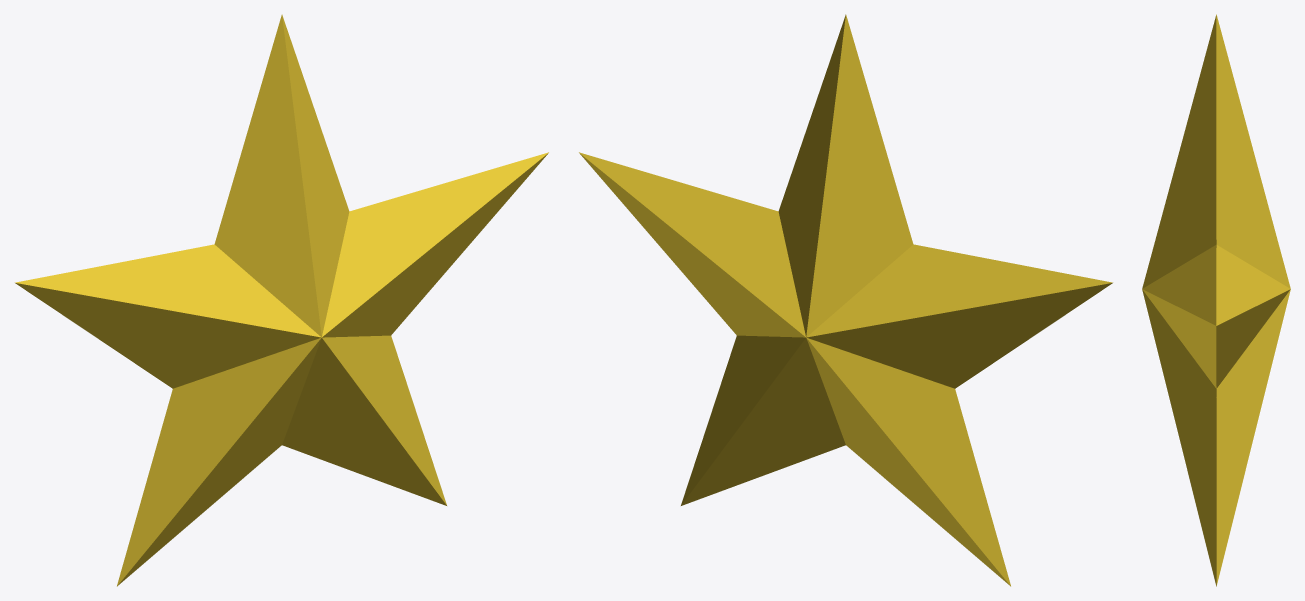
Rendered from Star.fbx.
3 renders of one model, left to right at view 1: azimuth 30°, elevation 25°; view 2: azimuth 150°, elevation 25°; view 3: azimuth 270°, elevation 25°, orthographic. The views are drawn at different scales.
Parts seen in each view (by area): view 1: Star; view 2: Star; view 3: Star.
Boxes of the visible parts, x1,y1,x2,y2 form: Star: (15,14,548,586); Star: (579,14,1112,586); Star: (1142,14,1290,586).
Bounding box in the file's own units: 190 × 181 × 49.01.
